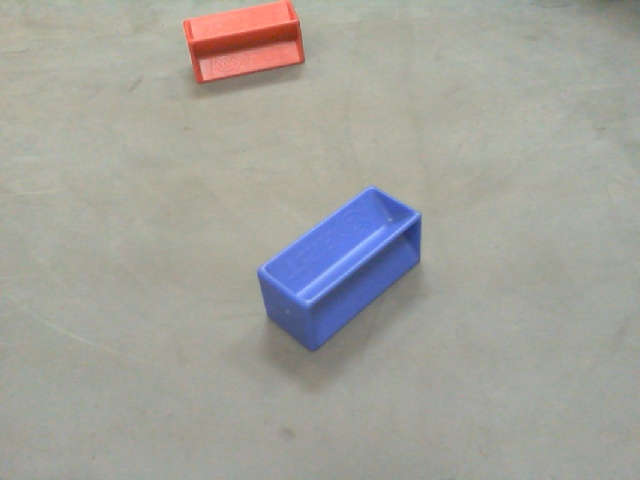BlueSample: (255, 182, 429, 350)
RedSample: (180, 1, 312, 84)
